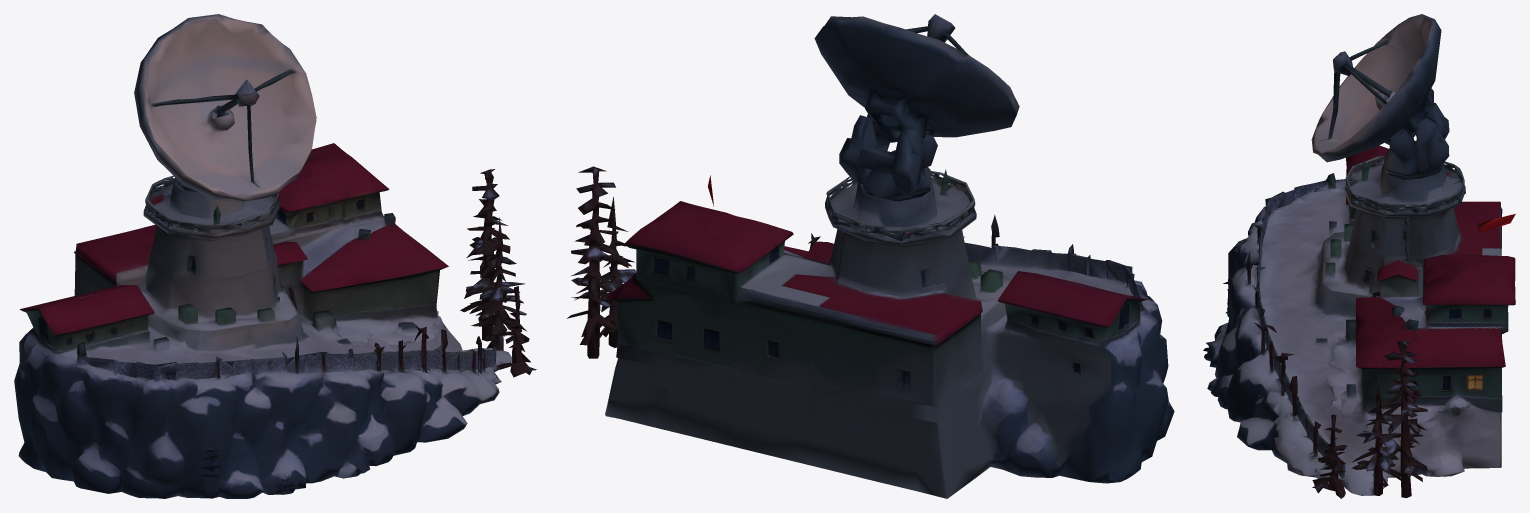
File: dish_tower.glb
3 views of the same model, side by side, from view 1: azimuth 30°, elevation 25°; view 2: azimuth 150°, elevation 25°; view 3: azimuth 270°, elevation 25° (orthographic). The views are drawn at different scales.
Visible parts, largest first — view 1: tripo_node_edaddd00-ed69-4eea-9d96-bd12fd4789f5; view 2: tripo_node_edaddd00-ed69-4eea-9d96-bd12fd4789f5; view 3: tripo_node_edaddd00-ed69-4eea-9d96-bd12fd4789f5.
Part boxes in pixels (bbox=[...]): tripo_node_edaddd00-ed69-4eea-9d96-bd12fd4789f5: bbox=[14, 14, 536, 498]; tripo_node_edaddd00-ed69-4eea-9d96-bd12fd4789f5: bbox=[567, 14, 1174, 498]; tripo_node_edaddd00-ed69-4eea-9d96-bd12fd4789f5: bbox=[1203, 14, 1515, 498].
Size of the model in its own units: 1 by 0.7077 by 0.5776.
1 material, 1 textured.
